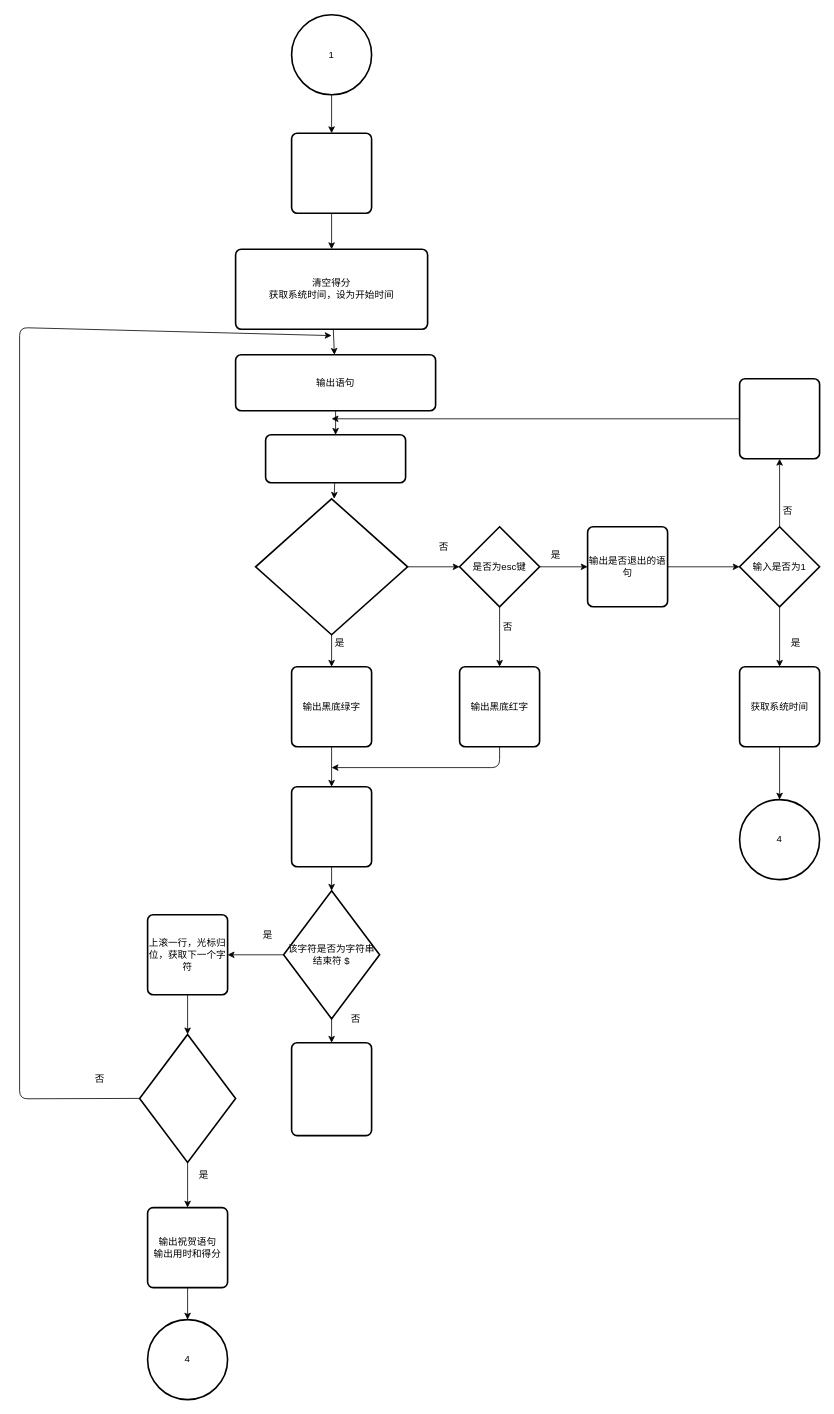
The diagram is 834 pixels wide and 1414 high, and some of its shapes have lost their labels. Here are the shapes that lost their labels. From the top down, the box of each, then its label:
(290, 132, 372, 214): 开始游戏
(738, 378, 820, 459): 光标回到原本的位置
(264, 434, 406, 483): 从键盘缓冲区获取一个字符
(254, 498, 408, 635): 该字符是否为字符串对应字符
(290, 786, 372, 867): 获取字符串下一个字符
(138, 1033, 236, 1163): 该字符是否为全文结束符 #
(290, 1042, 372, 1136): 光标移动到下一位位置
